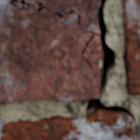brick: (0, 0, 99, 104), (0, 111, 135, 139), (26, 0, 99, 31), (123, 0, 139, 95)
crack: (2, 0, 138, 139)
